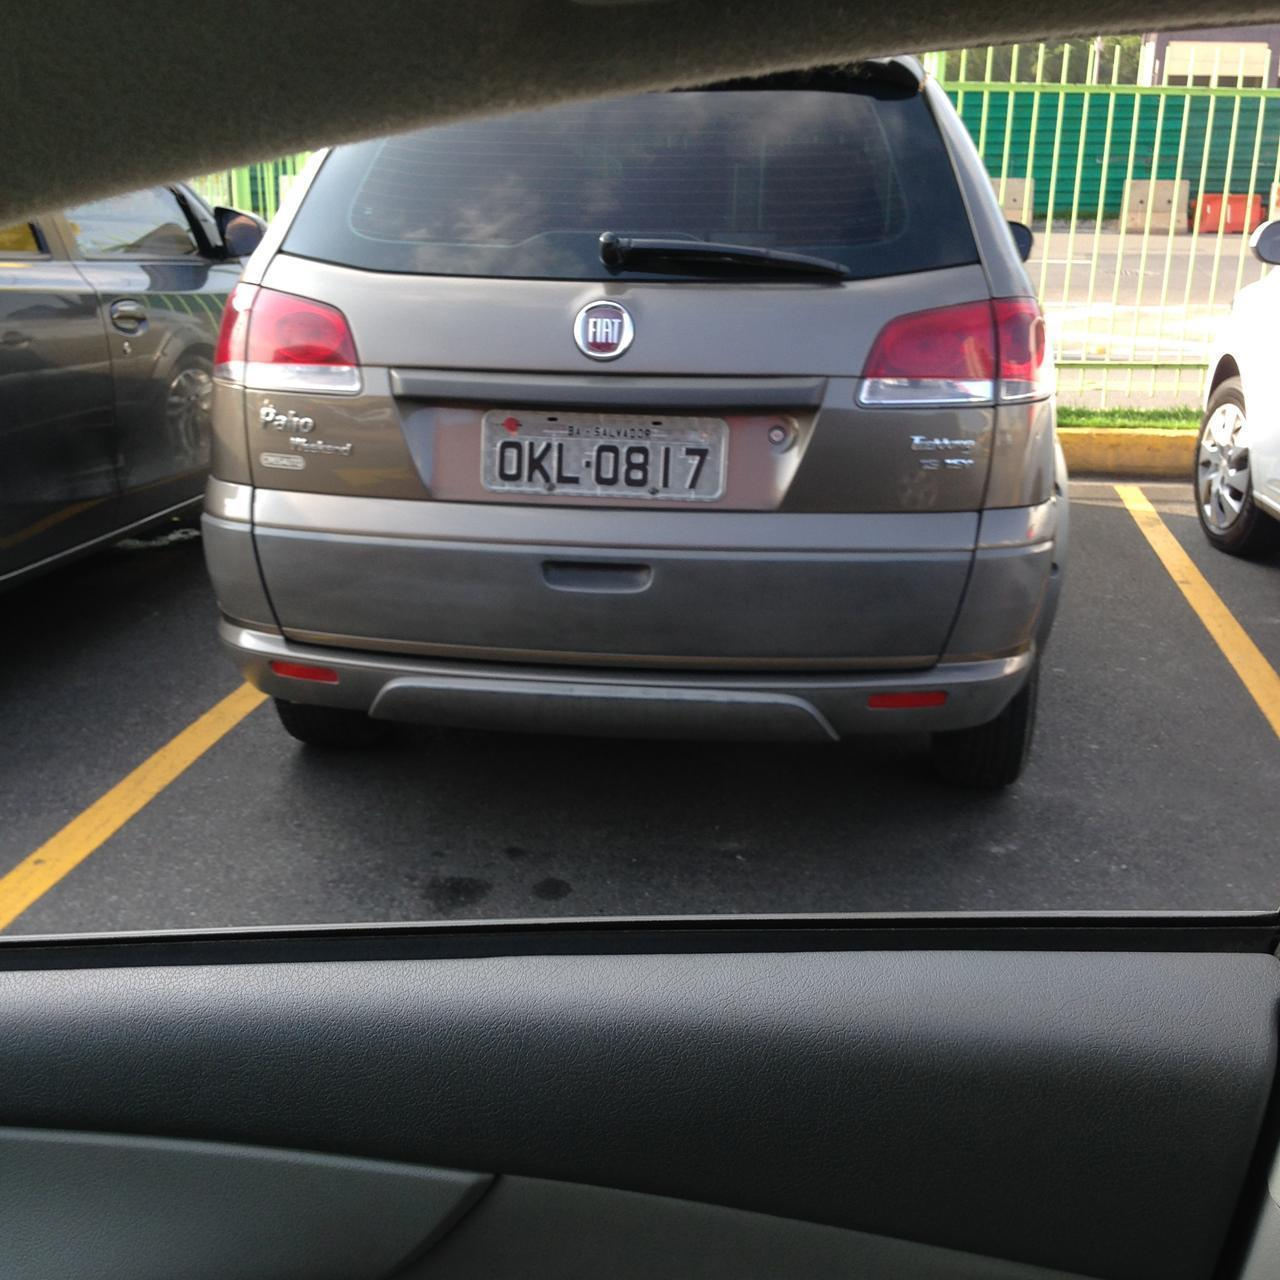placa de veiculo: (450, 396, 784, 533)
